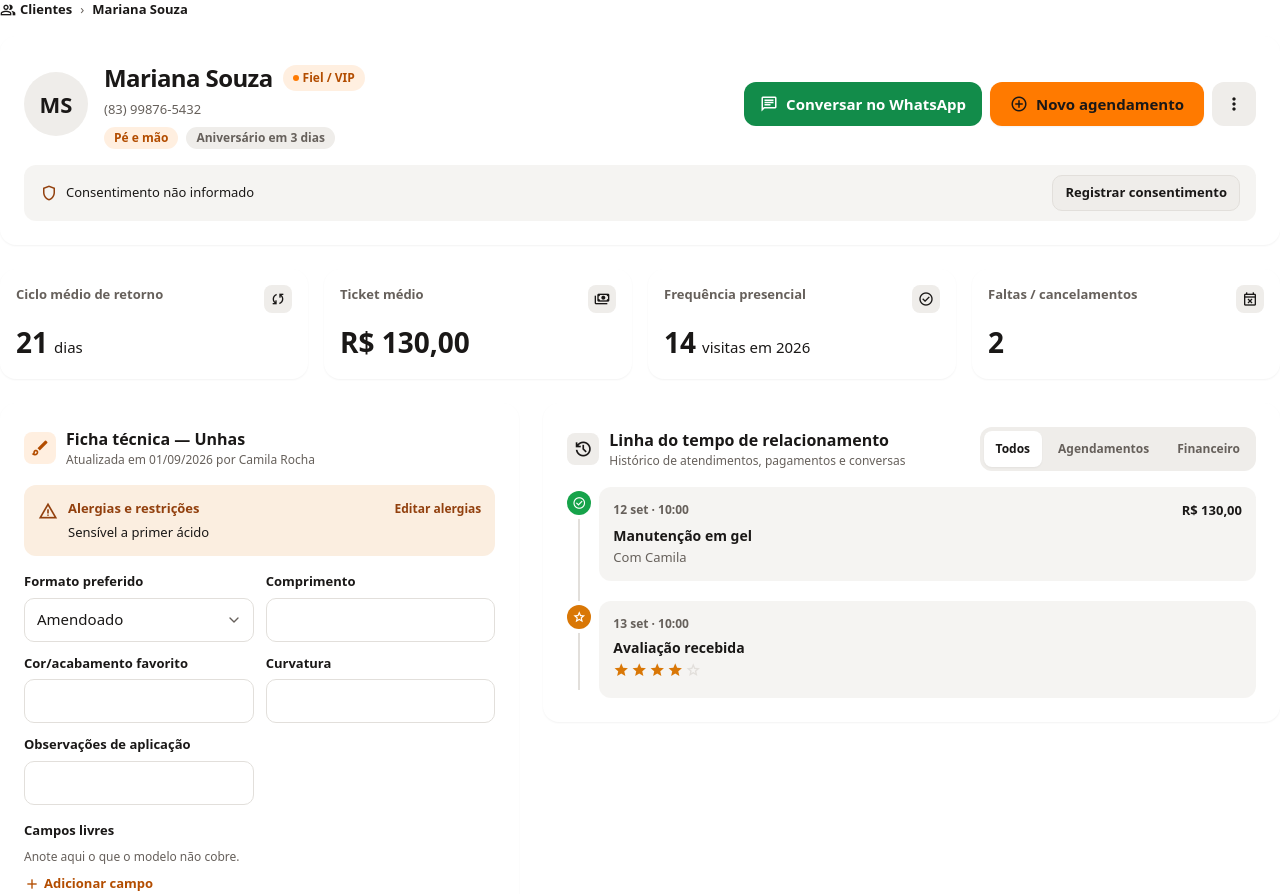
Test: FichaCliente › consentimento não informado registra pela API depois da confirmação
Expected: the text "Consentimento não informado" is shown, [66,183,254,203]
Click the button "Registrar consentimento".
click(1146, 193)  # box [1052,175,1240,211]
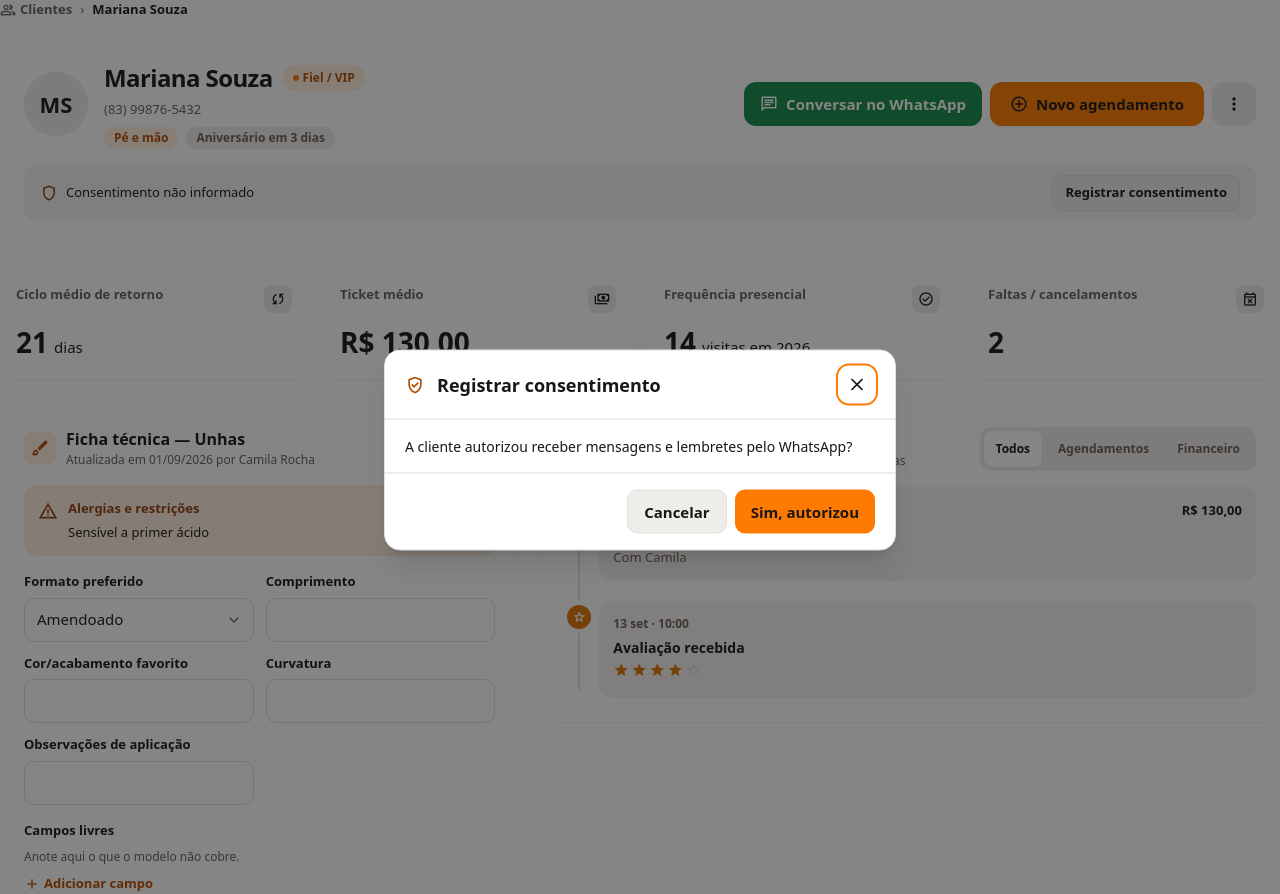
Now the text "A cliente autorizou receber mensagens e lembretes pelo WhatsApp?" is shown, box [405,436,875,456]
Click the button "Sim, autorizou".
click(805, 512)  # box [735,490,875,534]
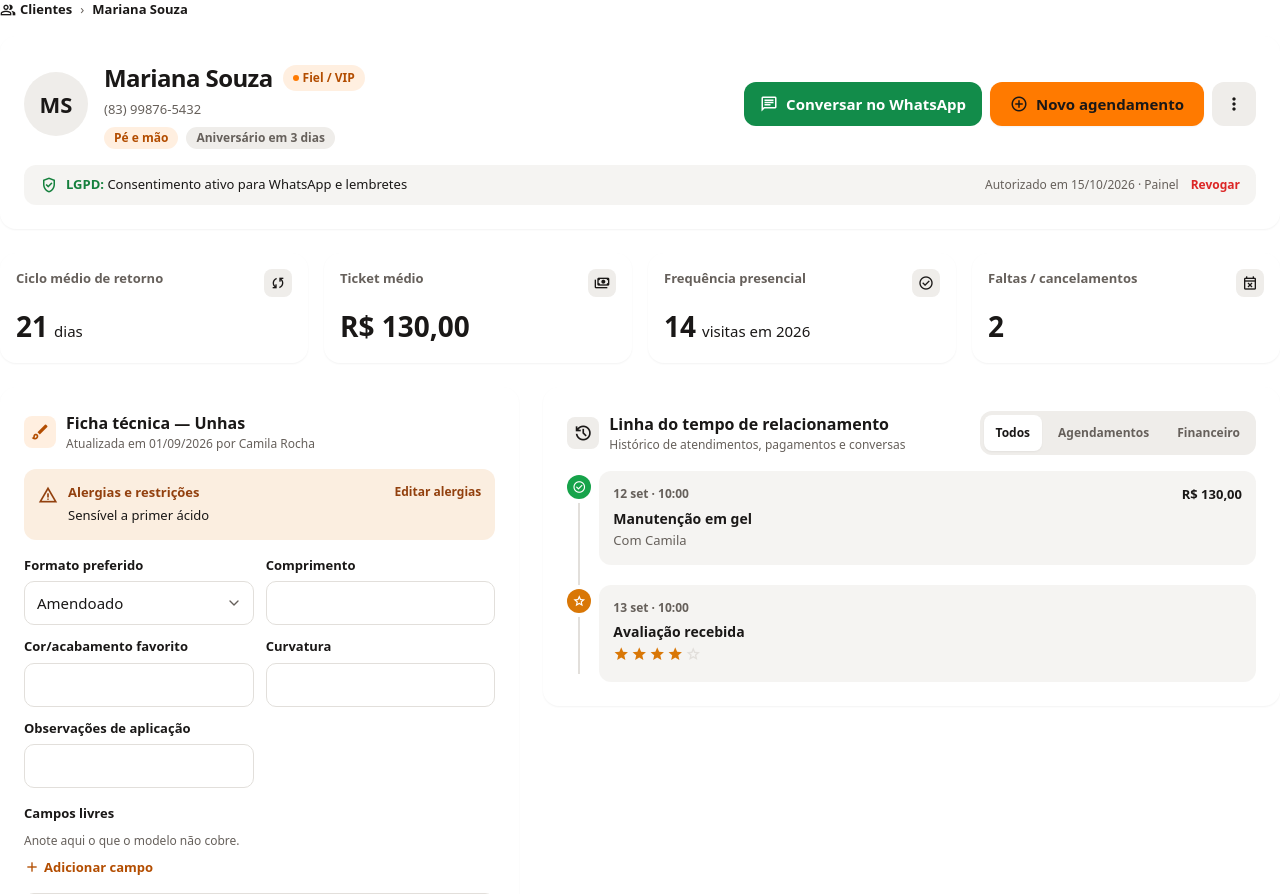
Now the text "Consentimento ativo para WhatsApp e lembretes" is shown, box [107,175,407,193]
